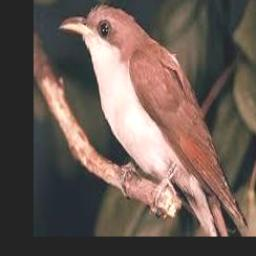Cuckoo: (59, 4, 249, 228)
